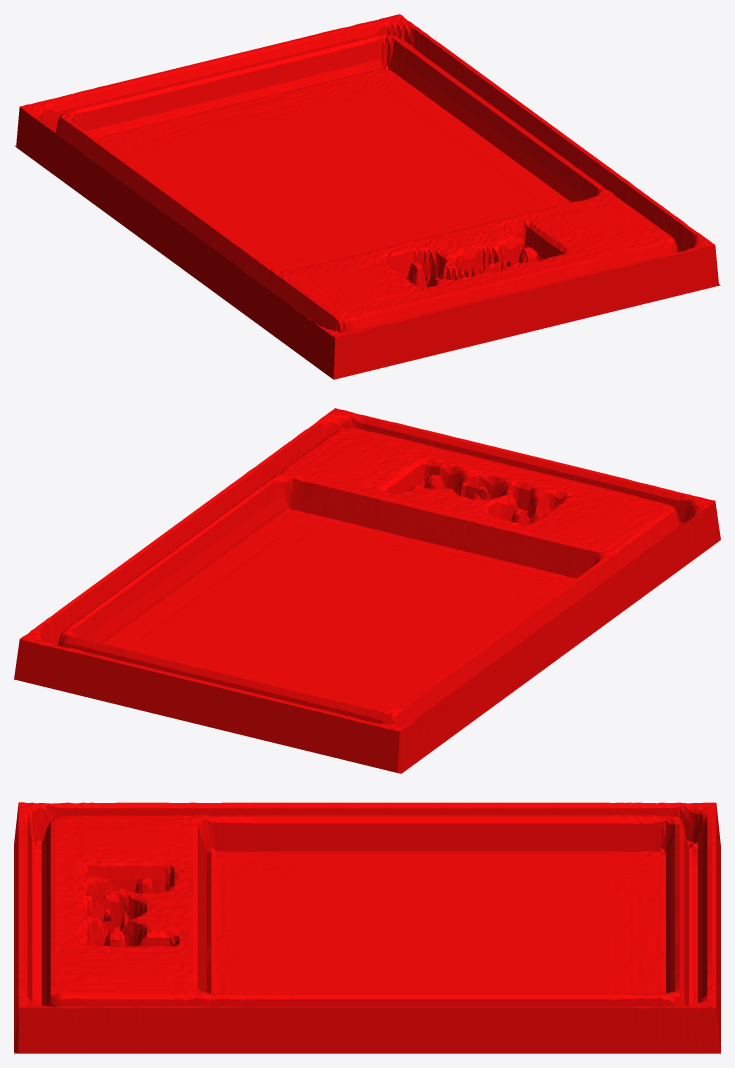
The picture shows the model from 3 angles, top to bottom: view 1: azimuth 30°, elevation 25°; view 2: azimuth 150°, elevation 25°; view 3: azimuth 270°, elevation 25°; orthographic projection. The views are drawn at different scales.
Parts seen in each view (by area): view 1: imagetostl_mesh0; view 2: imagetostl_mesh0; view 3: imagetostl_mesh0.
Part boxes in pixels (x1,y1,x2,y2): imagetostl_mesh0: (15,14,720,379); imagetostl_mesh0: (14,408,720,773); imagetostl_mesh0: (14,802,720,1053).
Bounding box in the file's own units: 2564 × 254 × 3665.
